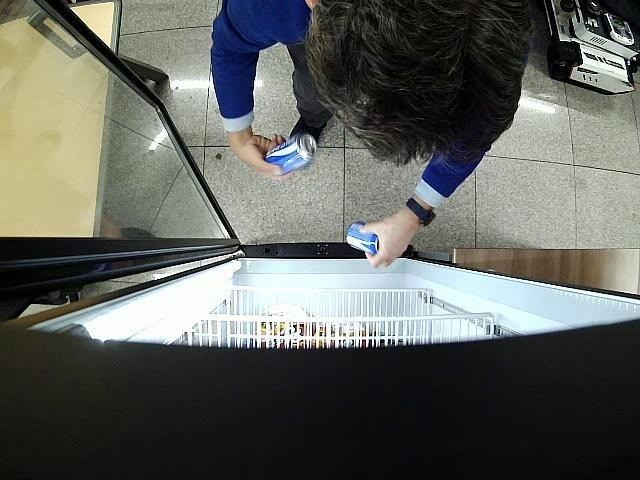13_pocariSweat: (266, 134, 318, 175), (346, 222, 379, 255)
